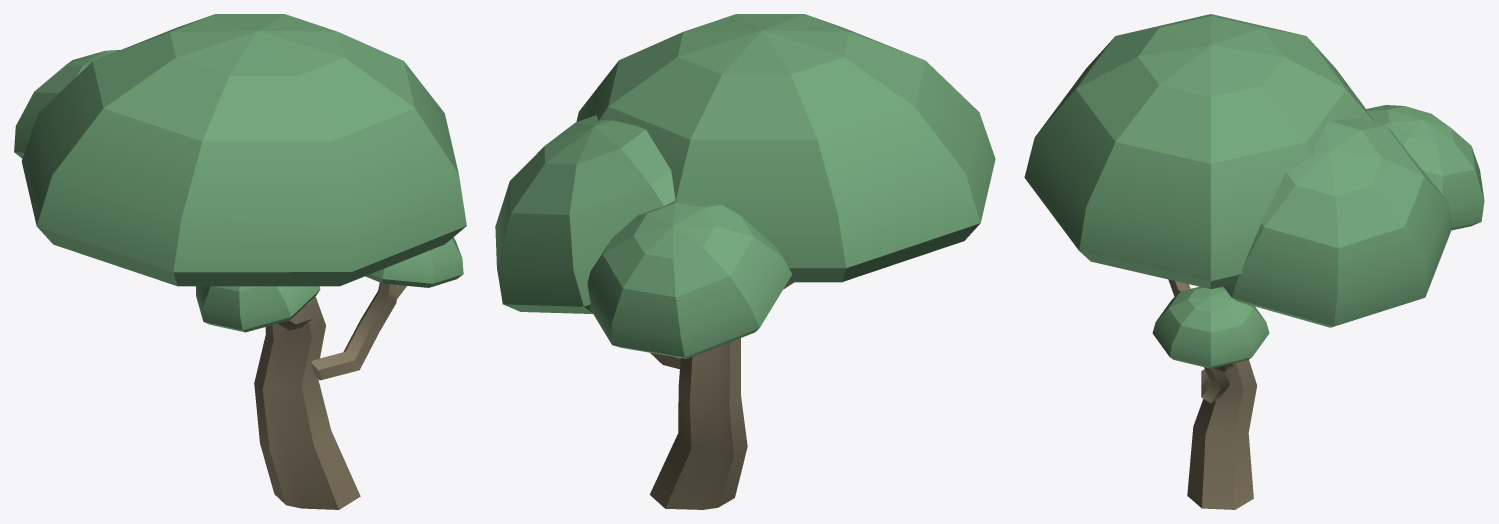
File: chestnut-normal.fbx
3 views of the same model, side by side, from view 1: azimuth 30°, elevation 25°; view 2: azimuth 150°, elevation 25°; view 3: azimuth 270°, elevation 25° (orthographic). The views are drawn at different scales.
Parts seen in each view (by area): view 1: pCylinder23; view 2: pCylinder23; view 3: pCylinder23.
Part boxes in pixels (<box>): pCylinder23: <box>14,14,466,509</box>; pCylinder23: <box>495,14,995,509</box>; pCylinder23: <box>1024,14,1484,509</box>.
Size of the model in its own units: 20.55 by 22.7 by 22.41.
